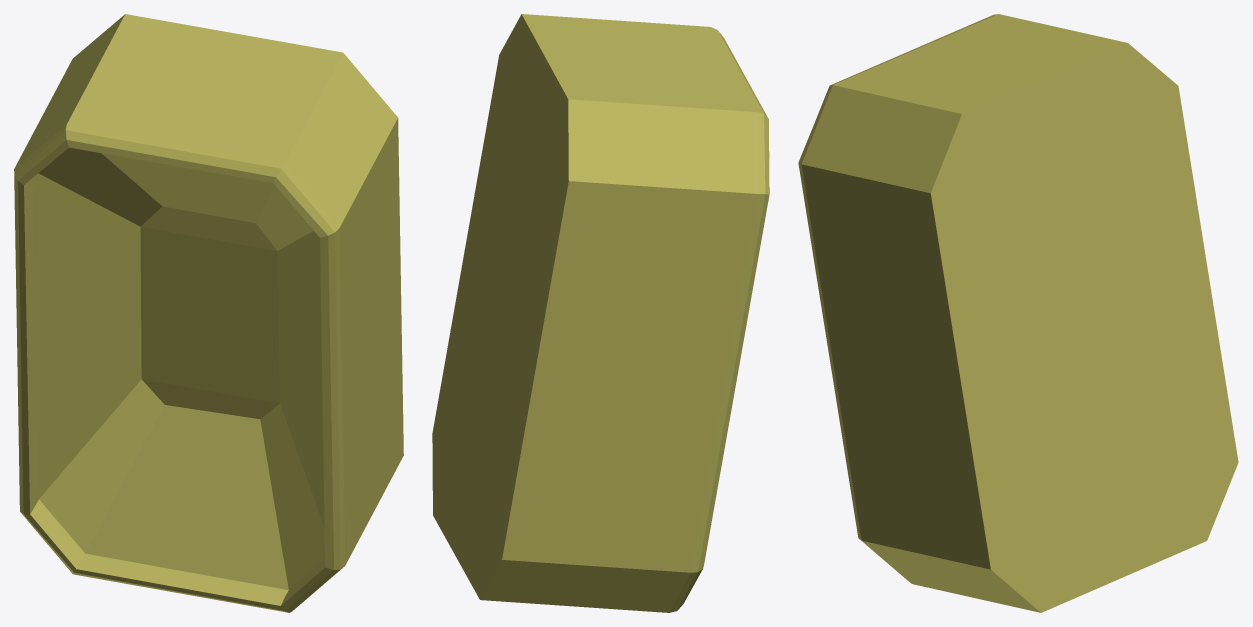
Rendered from TL3_8shapes_Emerald_Classic_Metal.001 3.glb.
3 renders of one model, left to right at view 1: azimuth 30°, elevation 25°; view 2: azimuth 150°, elevation 25°; view 3: azimuth 270°, elevation 25°, orthographic. The views are drawn at different scales.
Parts seen in each view (by area): view 1: TL3_8shapes_Emerald_Classic_Metal.001; view 2: TL3_8shapes_Emerald_Classic_Metal.001; view 3: TL3_8shapes_Emerald_Classic_Metal.001.
Part boxes in pixels (<box>): TL3_8shapes_Emerald_Classic_Metal.001: <box>14,14,403,612</box>; TL3_8shapes_Emerald_Classic_Metal.001: <box>432,14,769,612</box>; TL3_8shapes_Emerald_Classic_Metal.001: <box>798,14,1238,612</box>.
Size of the model in its own units: 0.5561 by 0.774 by 0.6003.
